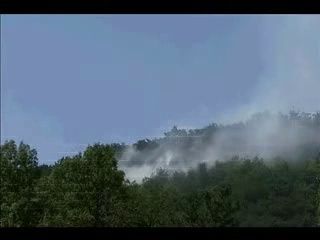smoke: (227, 14, 320, 165), (114, 111, 226, 183)
